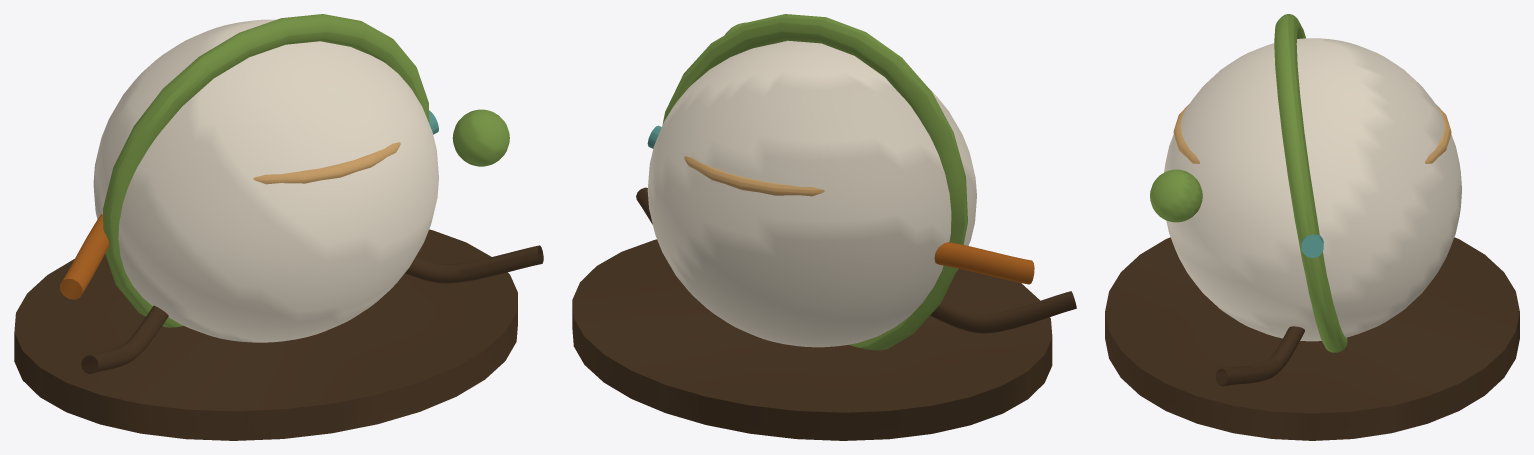
Rendered from 1225_细胞图鉴_高尔基体.glb.
3 renders of one model, left to right at view 1: azimuth 30°, elevation 25°; view 2: azimuth 150°, elevation 25°; view 3: azimuth 270°, elevation 25°, orthographic. The views are drawn at different scales.
Visible parts, largest first — view 1: card_1225; view 2: card_1225; view 3: card_1225.
Part boxes in pixels (x1,y1,x2,y2): card_1225: [14, 14, 543, 440]; card_1225: [572, 14, 1076, 440]; card_1225: [1105, 14, 1519, 440].
Size of the model in its own units: 1.44 by 1 by 1.21.
